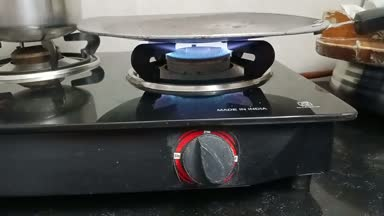flame_gas_on: (144, 42, 263, 189)
